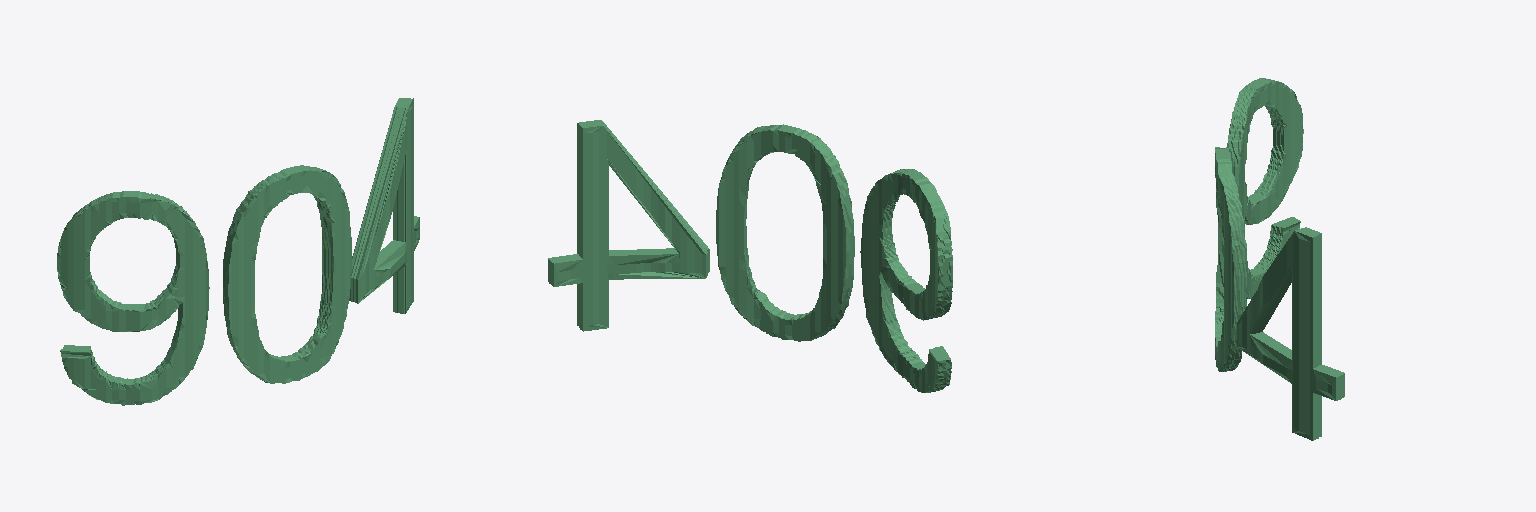
The model's file is port_4.obj.
3 renders of one model, left to right at view 1: azimuth 30°, elevation 25°; view 2: azimuth 150°, elevation 25°; view 3: azimuth 270°, elevation 25°, orthographic.
Visible parts, largest first — view 1: Text01; view 2: Text01; view 3: Text01.
Boxes of the visible parts, box(x1,y1,x2,y2) form: Text01: box(57, 98, 419, 405); Text01: box(548, 120, 952, 392); Text01: box(1215, 78, 1344, 440).
Size of the model in its own units: 3.06 by 1.59 by 0.9.